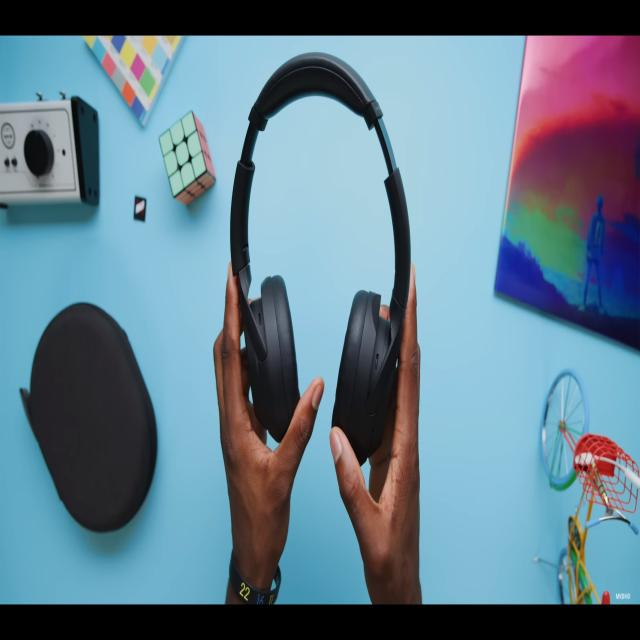Headphone: (228, 51, 410, 466)
